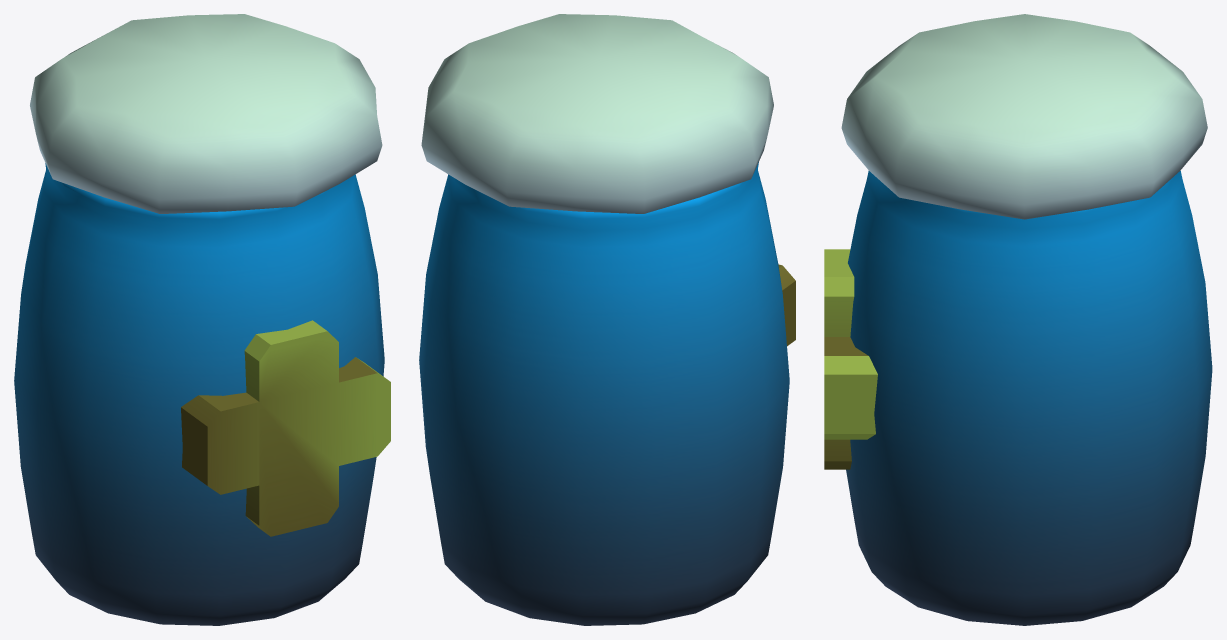
Rendered from medKit.fbx.
3 views of the same model, side by side, from view 1: azimuth 30°, elevation 25°; view 2: azimuth 150°, elevation 25°; view 3: azimuth 270°, elevation 25° (orthographic).
Visible parts, largest first — view 1: Cylinder.010, Cylinder.011, Cube.026; view 2: Cylinder.010, Cylinder.011, Cube.026; view 3: Cylinder.010, Cylinder.011, Cube.026.
Part boxes in pixels (<box>): Cylinder.010: <box>14,163,384,625</box>; Cylinder.011: <box>30,14,382,213</box>; Cube.026: <box>181,320,390,536</box>; Cylinder.010: <box>419,162,789,625</box>; Cylinder.011: <box>421,14,773,213</box>; Cube.026: <box>778,264,795,346</box>; Cylinder.010: <box>846,170,1212,625</box>; Cylinder.011: <box>841,14,1207,219</box>; Cube.026: <box>824,249,877,469</box>.
Size of the model in its own units: 279 by 423 by 286.
